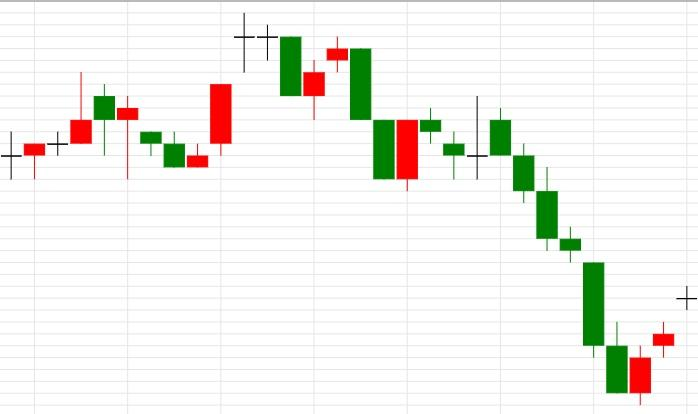bullish_engulfing_rise: (326, 36, 419, 192)
three_black_crows_fall: (442, 96, 558, 251)
